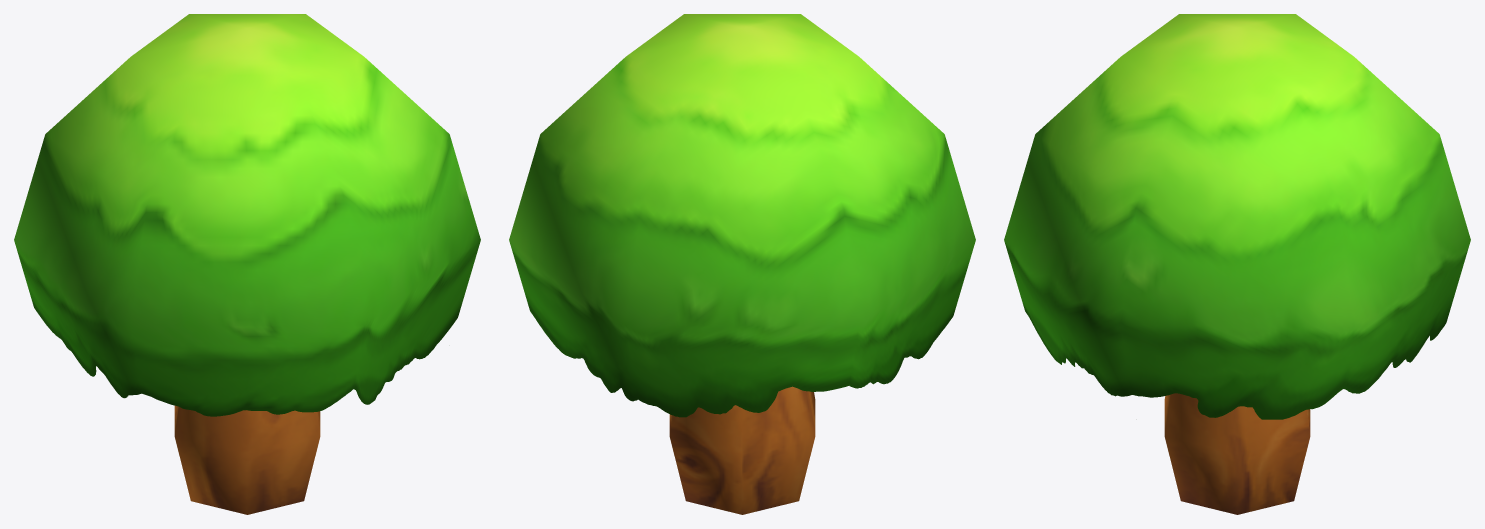
File: Tree_04.FBX
The picture shows the model from 3 angles, left to right: view 1: azimuth 30°, elevation 25°; view 2: azimuth 150°, elevation 25°; view 3: azimuth 270°, elevation 25°; orthographic projection.
Parts seen in each view (by area): view 1: Tree_04; view 2: Tree_04; view 3: Tree_04.
Boxes of the visible parts, bbox=[...] form: Tree_04: bbox=[14, 14, 480, 514]; Tree_04: bbox=[509, 14, 975, 514]; Tree_04: bbox=[1004, 14, 1470, 514].
Bounding box in the file's own units: 81.83 × 102 × 94.49.
